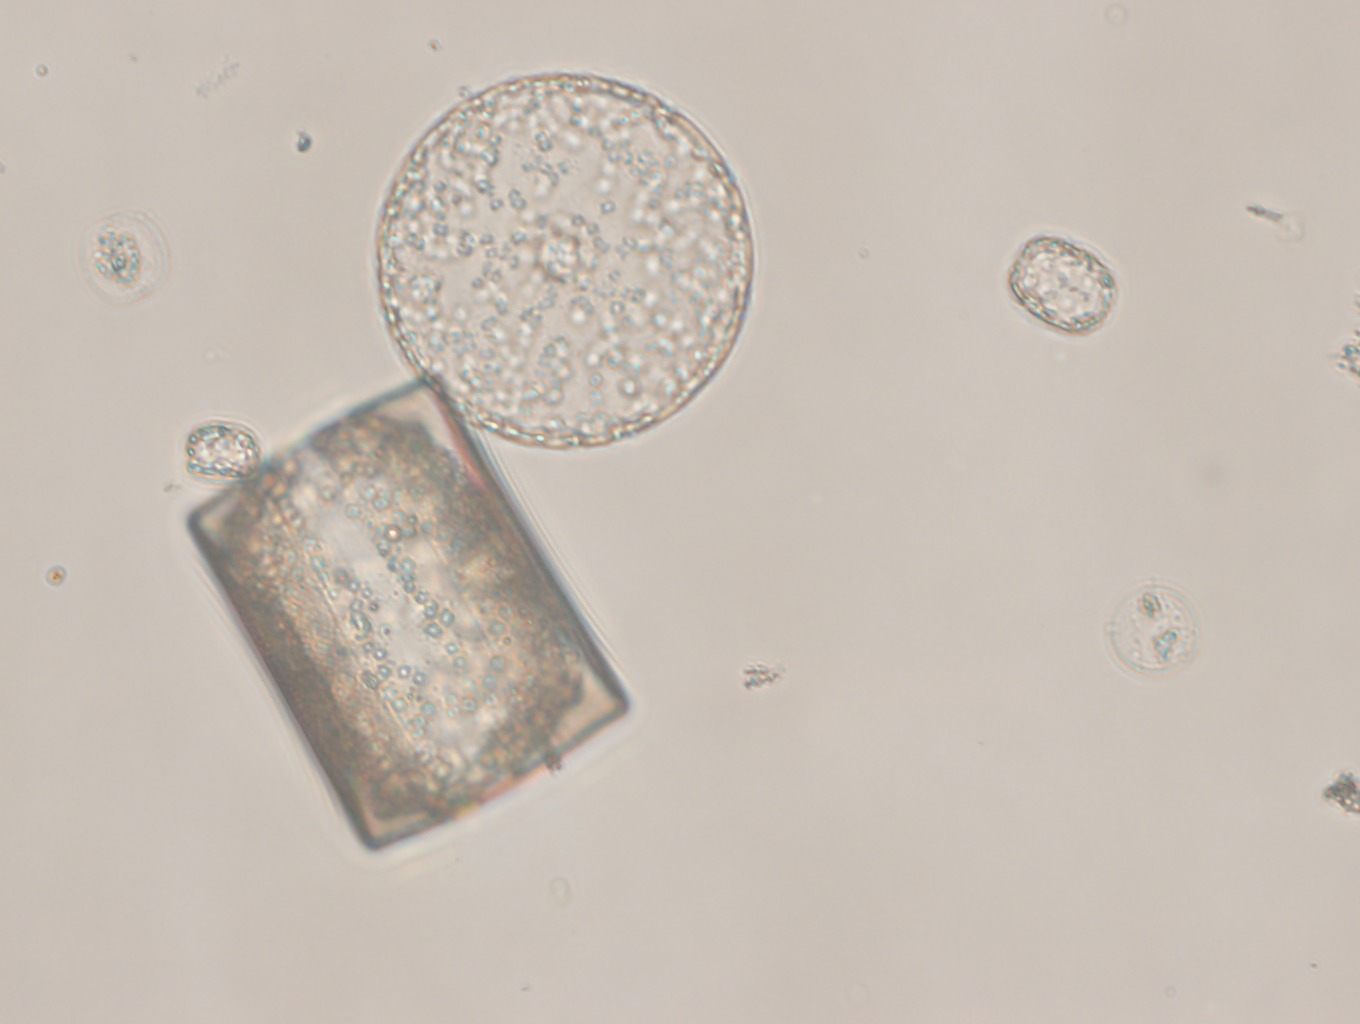coscinodiscus: (372, 69, 755, 452)
coscinodiscus flank: (186, 375, 630, 858)
